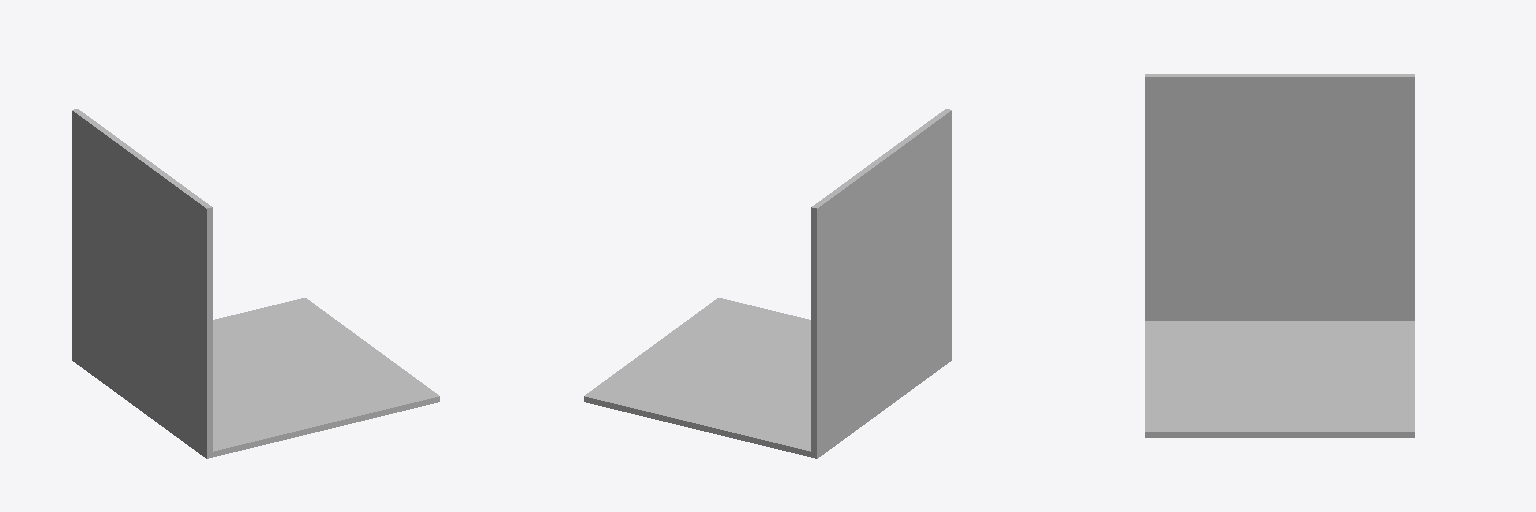
The model's file is CentimetersWallTest.obj.
3 renders of one model, left to right at view 1: azimuth 30°, elevation 25°; view 2: azimuth 150°, elevation 25°; view 3: azimuth 270°, elevation 25°, orthographic.
Parts seen in each view (by area): view 1: pCube3; view 2: pCube3; view 3: pCube3.
Boxes of the visible parts, box(x1,y1,x2,y2) form: pCube3: box(72, 109, 439, 458); pCube3: box(584, 109, 951, 458); pCube3: box(1145, 74, 1414, 437).
Size of the model in its own units: 3 by 3.07 by 3.